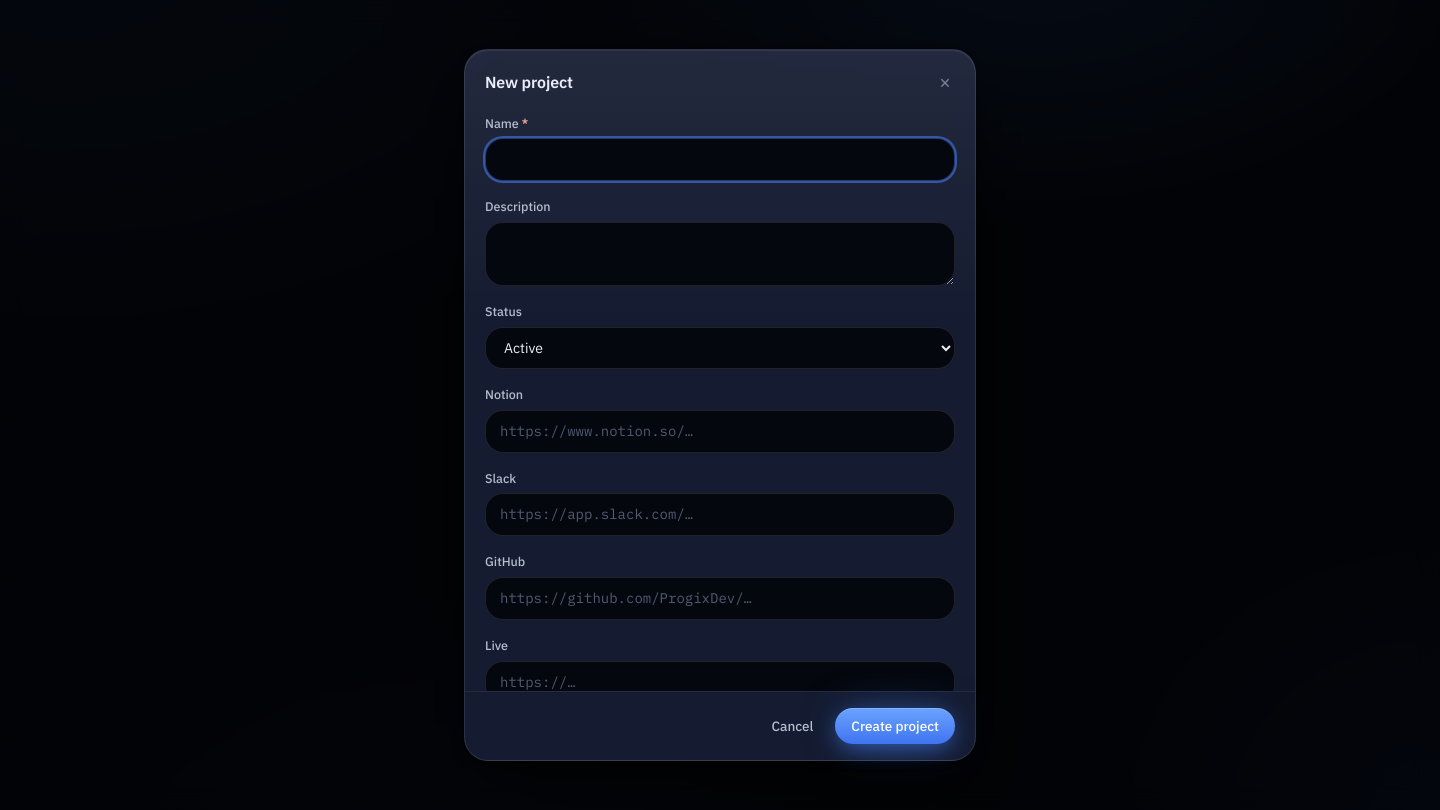
Test: ProjectFormModal (AC-4) › keeps the dialog open and shows errors when the action rejects bad input
Type "Atlas" into the field labelled "Name *" at [720, 160], box [485,138,955,181]
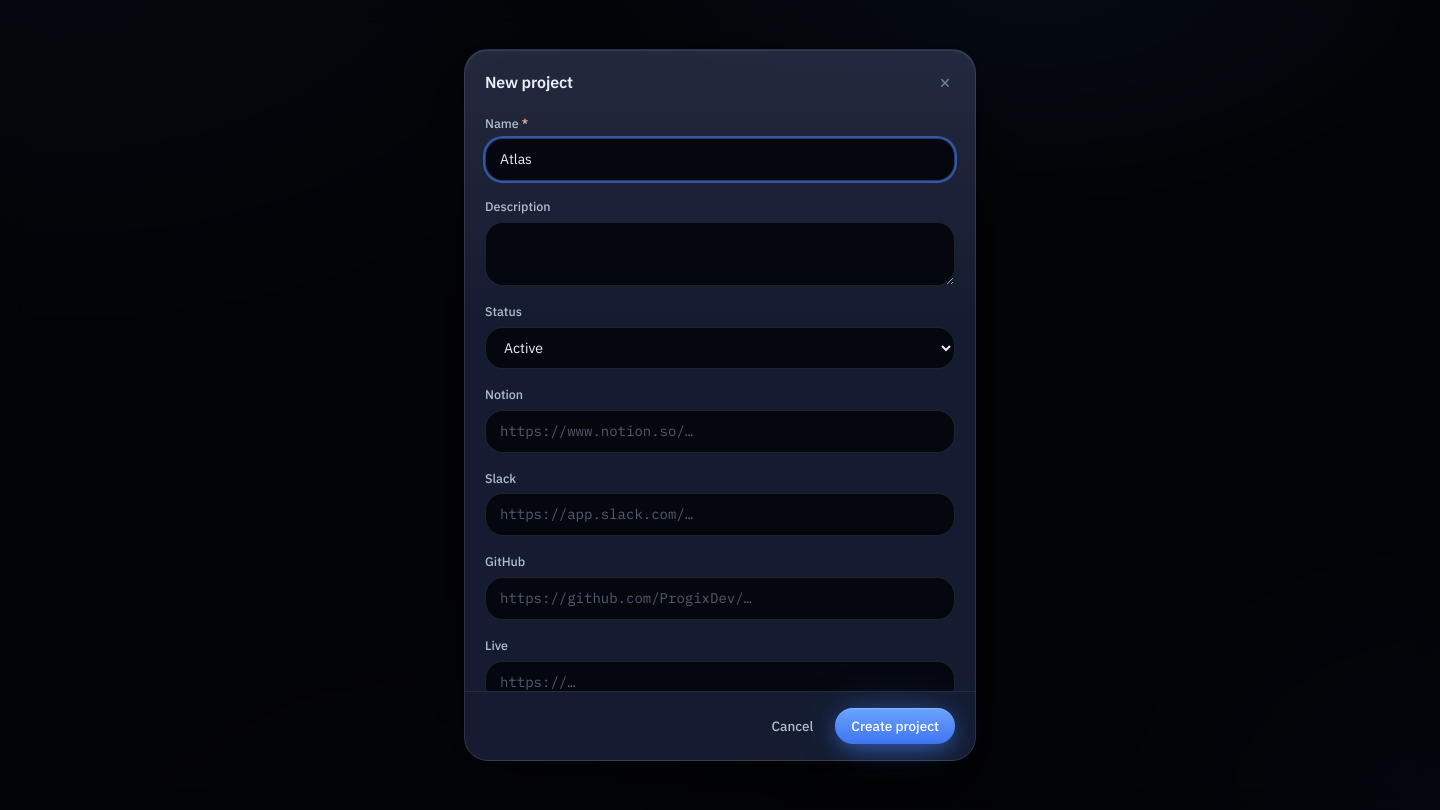
Type "not-a-url" into the field labelled "GitHub" at [720, 599], box [485,577,955,620]
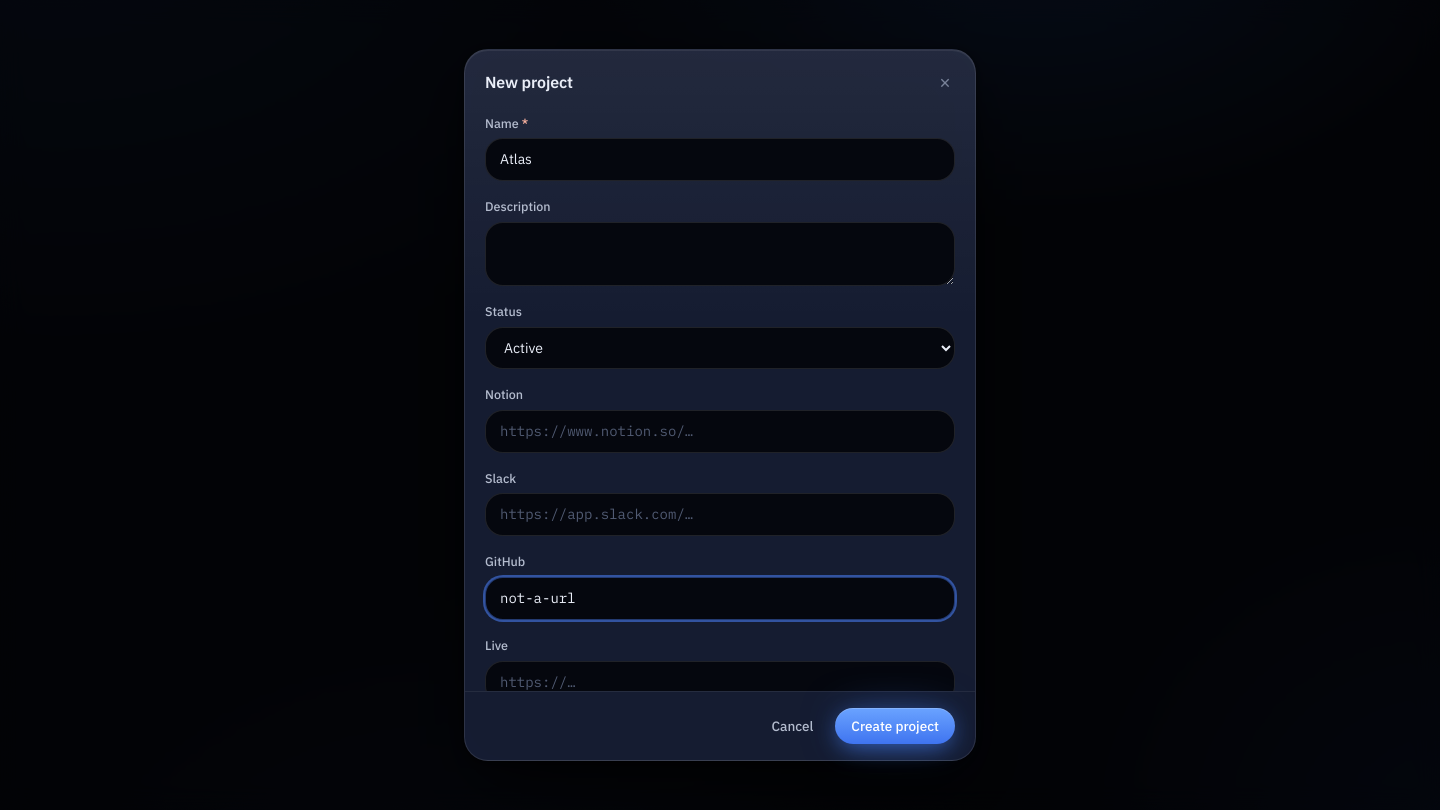
Click the button "Create project" at [895, 726], box [835,708,955,744]
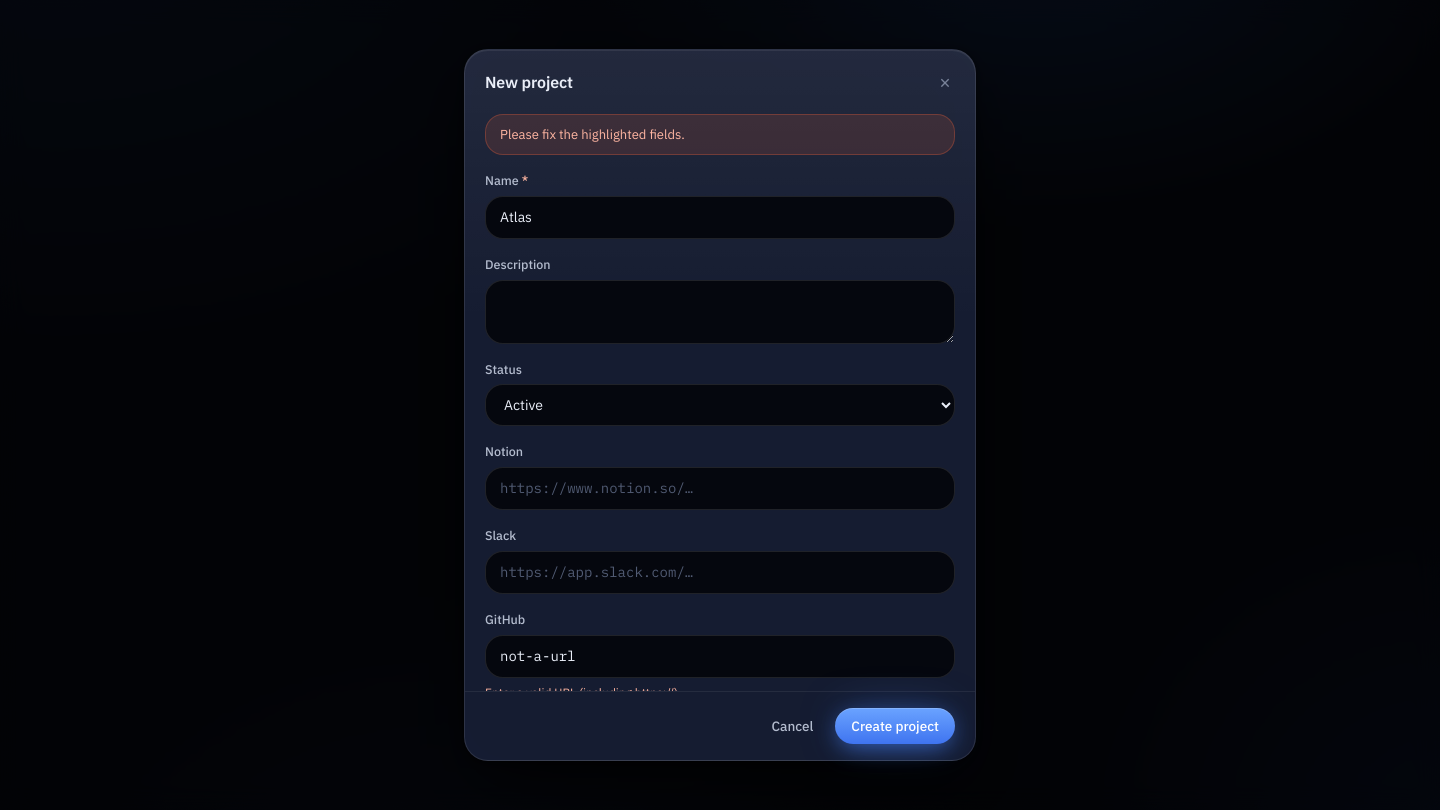
Expected: the text "Please fix the highlighted fields." is shown, [485,114,955,155]
